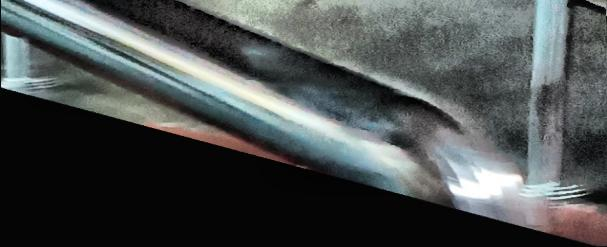obstacle: (1, 0, 607, 246)
